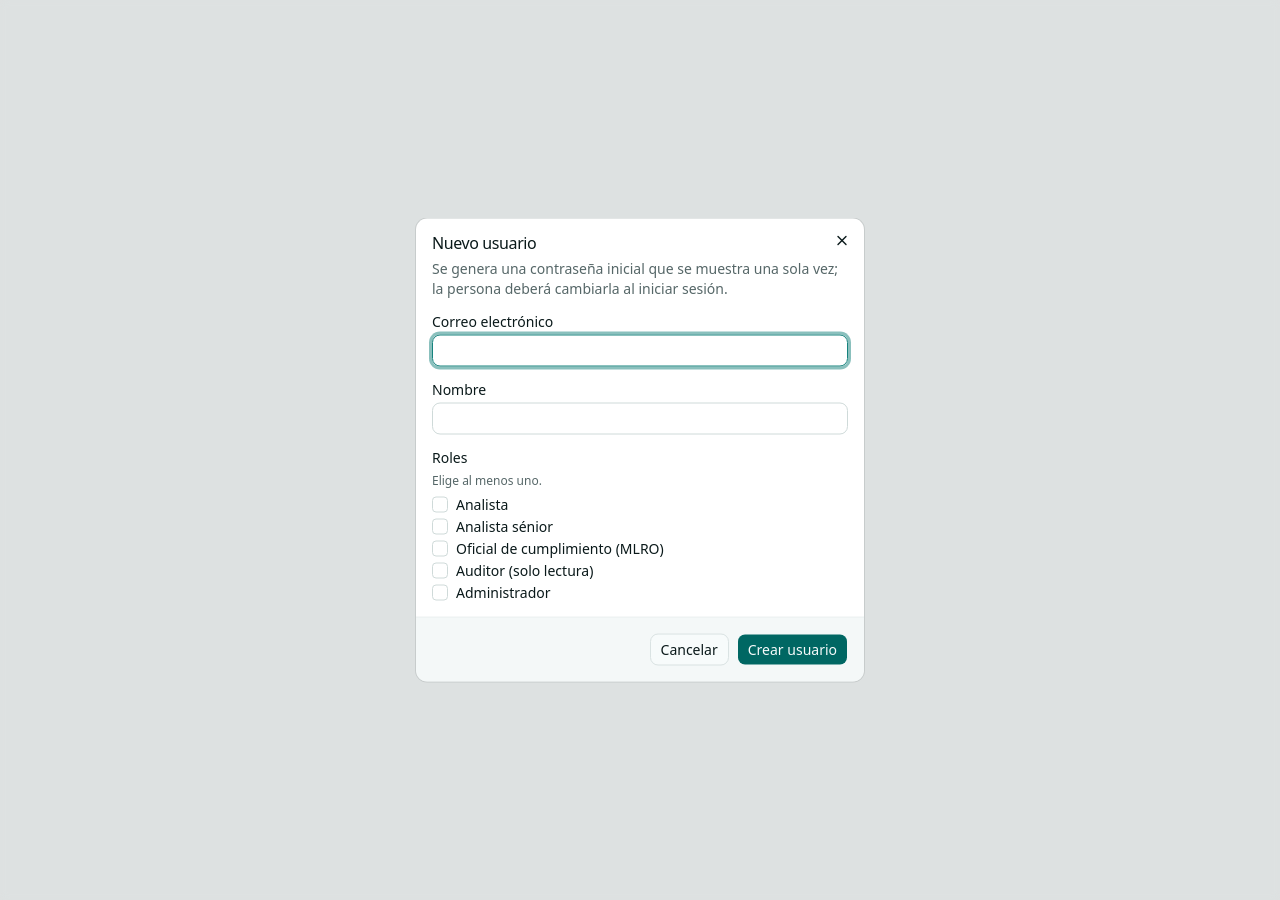
CreateStaffDialog: the form › refuses an email that is not one, with the same rule as the sign-in form
This screenshot has width=1280, height=900.
Type "not-an-email" into the field labelled "Correo electrónico" at (640, 350), box [432,334,848,366]
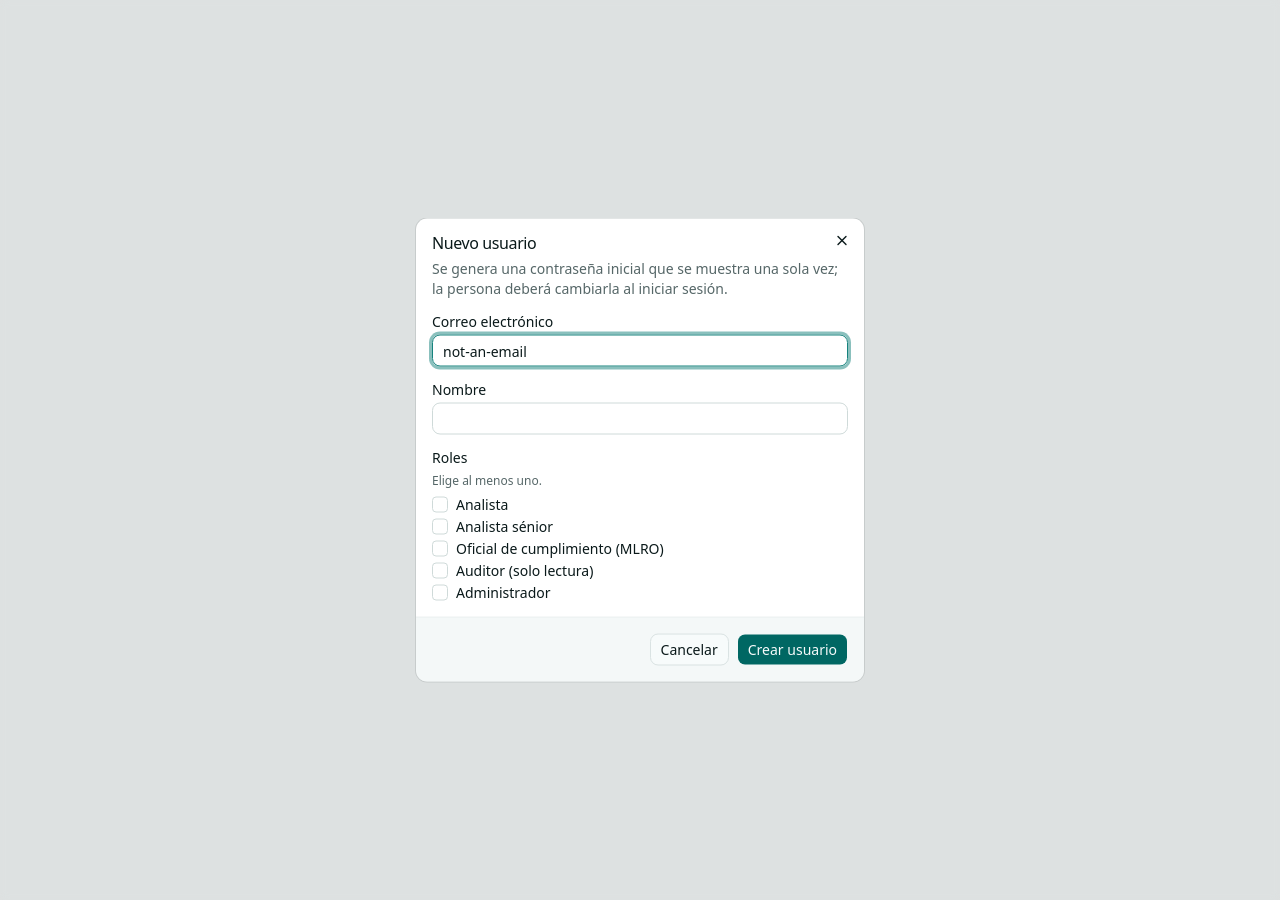
Type "Ana" into the field labelled "Nombre" at (640, 418), box [432,402,848,434]
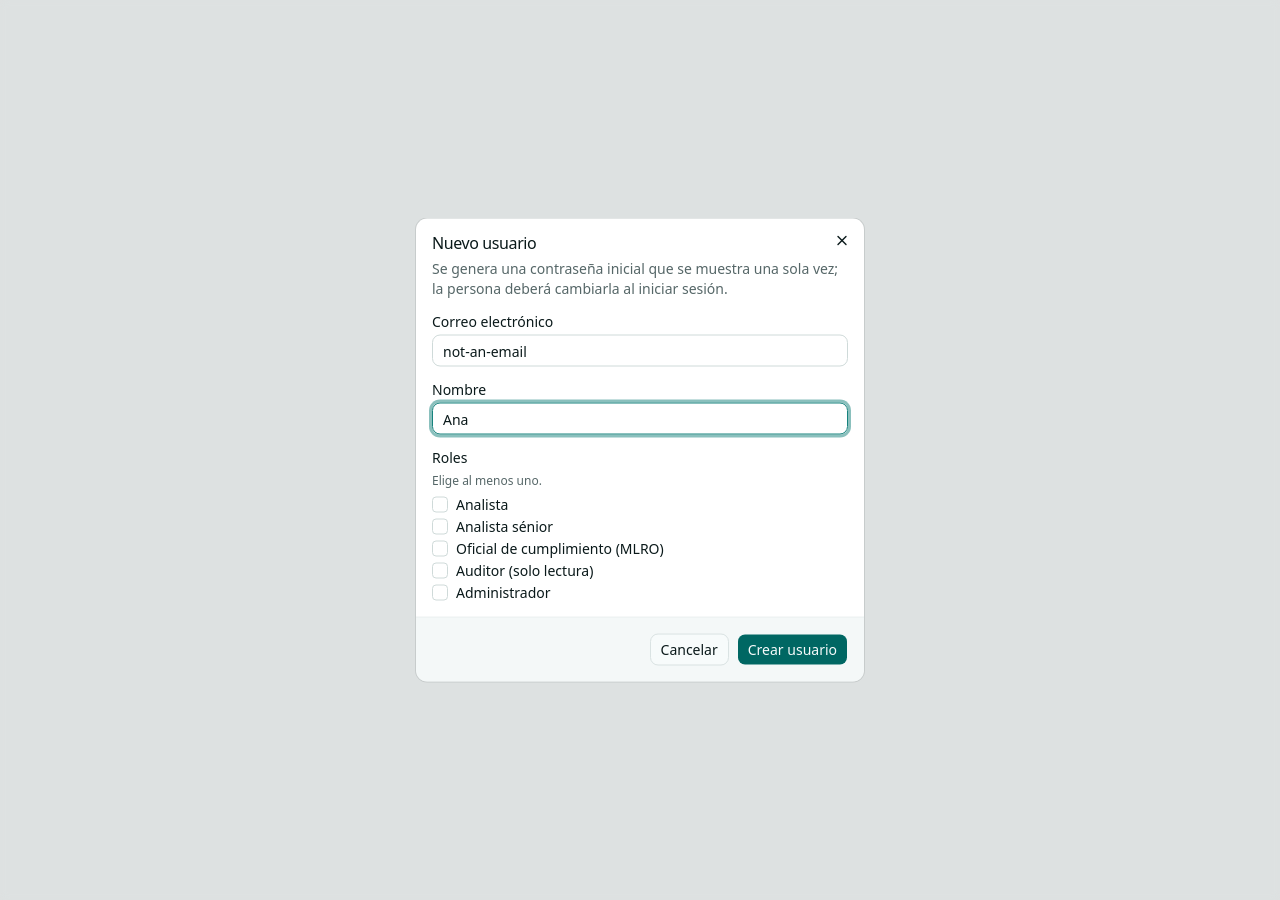
Click the checkbox named "Oficial de cumplimiento (MLRO)" next to "Oficial de cumplimiento (MLRO)" at (440, 548), box [432,540,448,556]
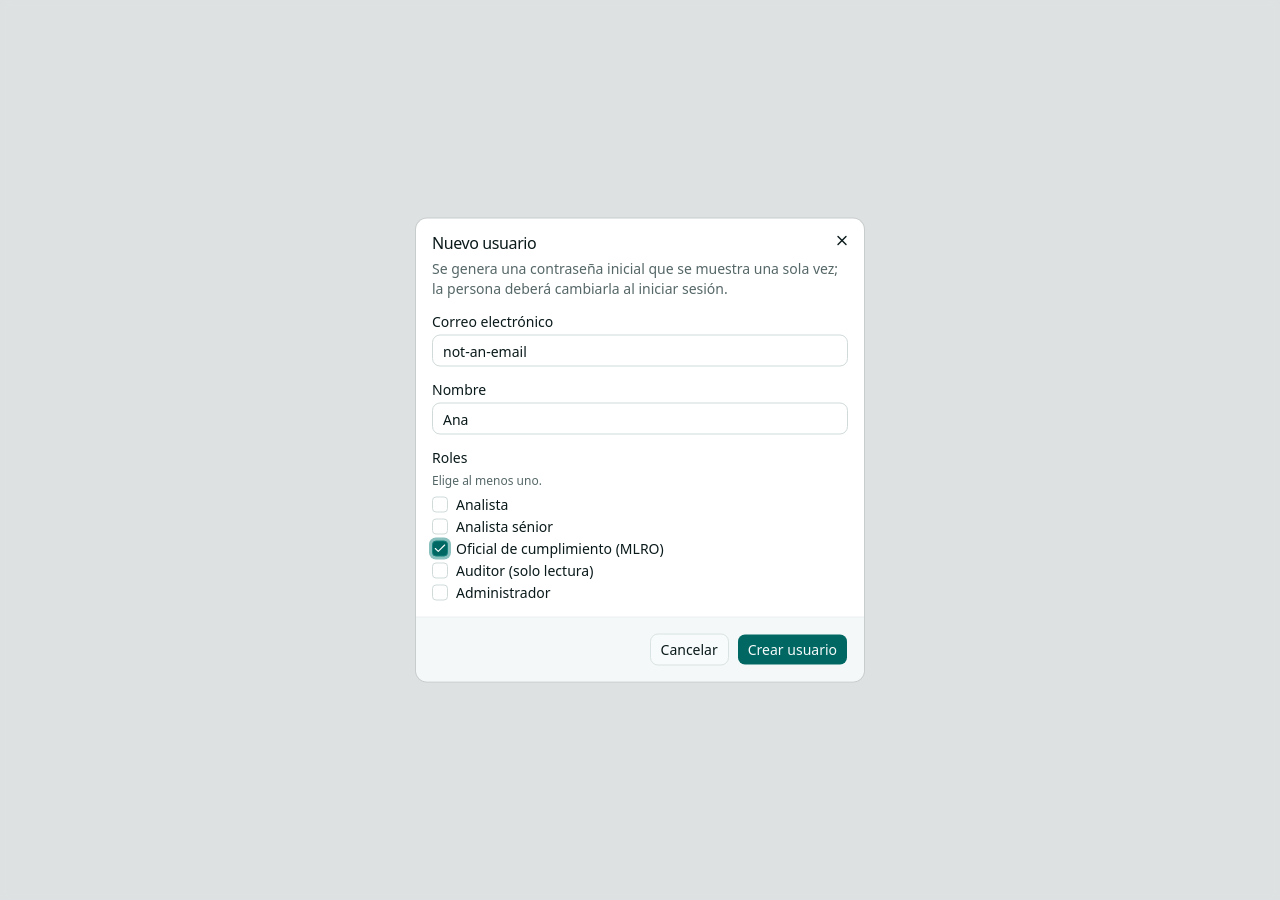
Click the button "Crear usuario" at (792, 650), box [737,634,848,666]
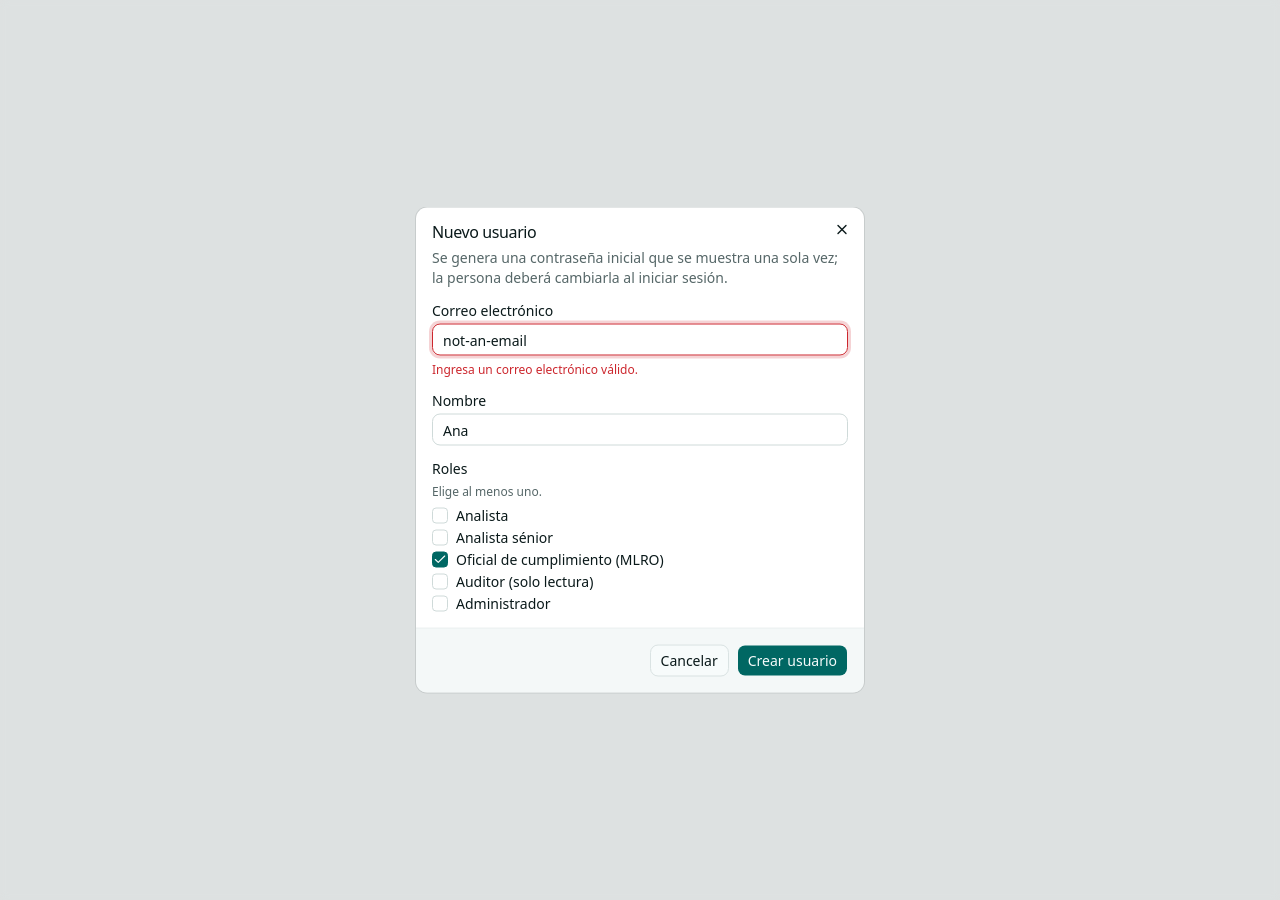
expect the text "Ingresa un correo electrónico válido." is shown: met, box [432,360,638,378]
